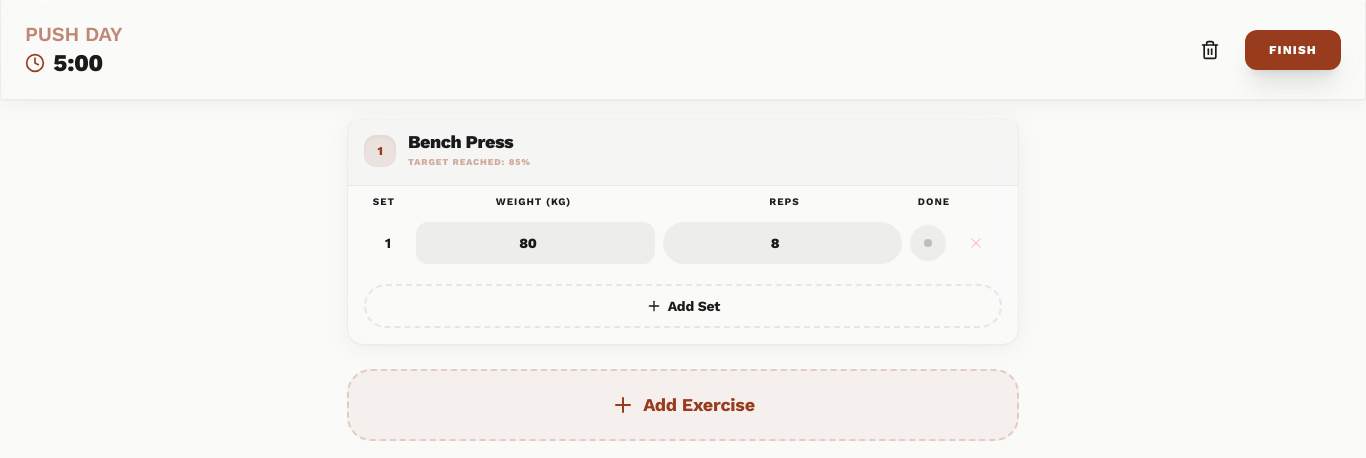
Test: WorkoutSession Component › shows exercise equipment or Standard fallback
Click the button "Add Exercise" at point(683, 405), box x1=347 y1=369 x2=1019 y2=441
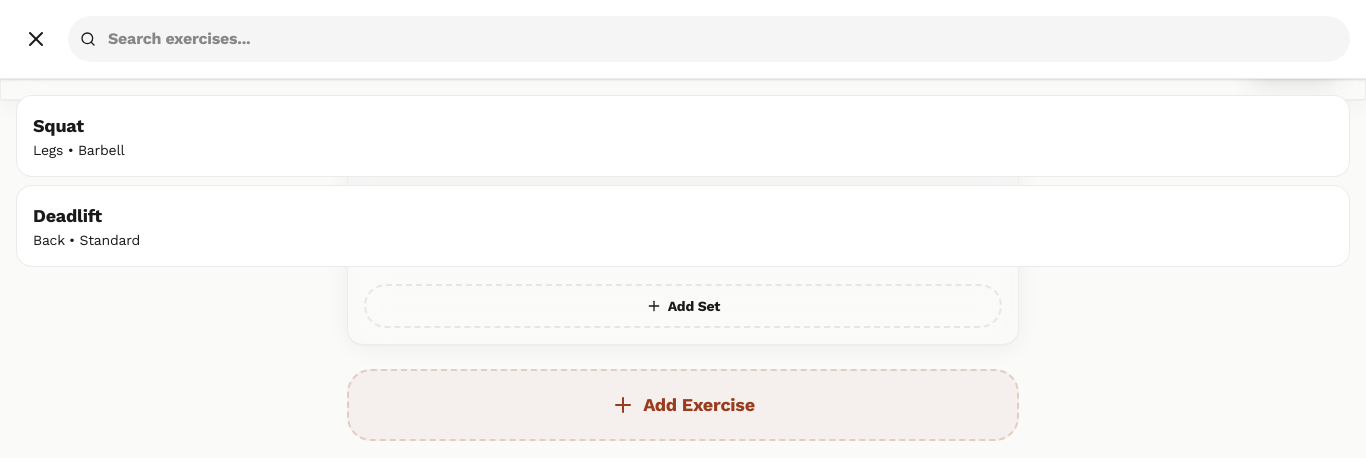
Result: the heading "Squat" is shown at x1=33 y1=115 x2=84 y2=136
Result: the text "Back • Standard" is shown at x1=33 y1=232 x2=140 y2=248
